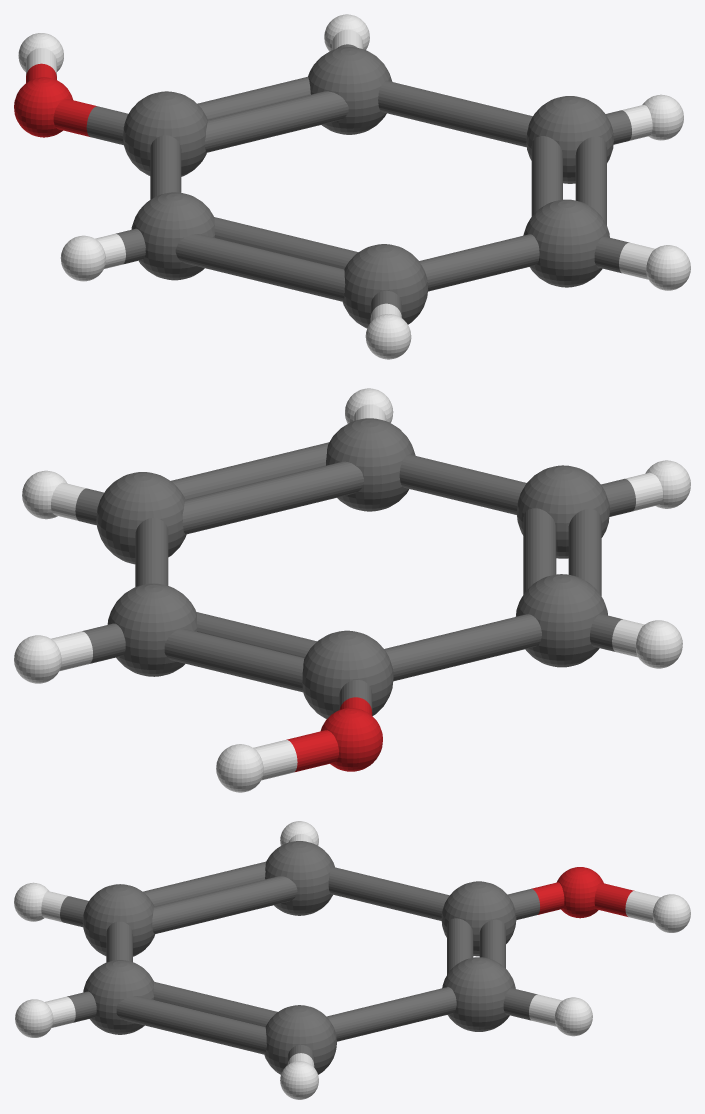
Rendered from FenolA.fbx.
3 renders of one model, top to bottom at view 1: azimuth 30°, elevation 25°; view 2: azimuth 150°, elevation 25°; view 3: azimuth 270°, elevation 25°, orthographic. The views are drawn at different scales.
Visible parts, largest first — view 1: Cylinder.008, Sphere.005, Cylinder.005, Sphere.004, Sphere, Sphere.003, Sphere.001, Cylinder.001, Sphere.002, Cylinder.007, Cylinder.009, Sphere.012 (+16 smaller); view 2: Cylinder.011, Sphere.003, Sphere, Sphere.001, Sphere.002, Sphere.005, Cylinder.006, Cylinder.003, Sphere.004, Cylinder.007, Cylinder.010, Sphere.012 (+16 smaller); view 3: Cylinder.010, Cylinder.009, Sphere.001, Sphere.003, Cylinder.005, Sphere.002, Sphere.004, Cylinder.006, Sphere.005, Sphere, Cylinder.011, Cylinder.008 (+15 smaller).
Part boxes in pixels (x1=…): Cylinder.008: x1=175, y1=234, x2=345, y2=301; Sphere.005: x1=523, y1=199, x2=609, y2=287; Cylinder.005: x1=378, y1=80, x2=532, y2=147; Sphere.004: x1=342, y1=244, x2=427, y2=328; Sphere: x1=123, y1=91, x2=207, y2=176; Sphere.003: x1=131, y1=192, x2=214, y2=280; Sphere.001: x1=308, y1=47, x2=392, y2=134; Cylinder.001: x1=205, y1=91, x2=348, y2=152; Sphere.002: x1=526, y1=96, x2=613, y2=183; Cylinder.007: x1=419, y1=234, x2=539, y2=291; Cylinder.009: x1=214, y1=217, x2=358, y2=269; Sphere.012: x1=14, y1=77, x2=72, y2=137; Cylinder.011: x1=182, y1=461, x2=363, y2=534; Sphere.003: x1=515, y1=574, x2=607, y2=667; Sphere: x1=302, y1=630, x2=393, y2=719; Sphere.001: x1=107, y1=583, x2=196, y2=676; Sphere.002: x1=96, y1=472, x2=186, y2=564; Sphere.005: x1=326, y1=418, x2=415, y2=511; Cylinder.006: x1=384, y1=614, x2=541, y2=681; Cylinder.003: x1=164, y1=629, x2=304, y2=692; Sphere.004: x1=516, y1=465, x2=609, y2=558; Cylinder.007: x1=399, y1=454, x2=526, y2=514; Cylinder.010: x1=171, y1=442, x2=328, y2=499; Sphere.012: x1=320, y1=708, x2=382, y2=771; Cylinder.010: x1=116, y1=996, x2=266, y2=1054; Cylinder.009: x1=152, y1=876, x2=297, y2=933; Sphere.001: x1=442, y1=957, x2=515, y2=1031; Sphere.003: x1=265, y1=841, x2=334, y2=915; Cylinder.005: x1=326, y1=987, x2=456, y2=1041; Sphere.002: x1=264, y1=1005, x2=336, y2=1074; Sphere.004: x1=82, y1=884, x2=154, y2=956; Cylinder.006: x1=328, y1=867, x2=449, y2=920; Sphere.005: x1=83, y1=960, x2=153, y2=1034; Sphere: x1=441, y1=881, x2=516, y2=956; Cylinder.011: x1=153, y1=981, x2=277, y2=1026; Cylinder.008: x1=143, y1=861, x2=265, y2=906.
Bounding box in the file's own units: 677 × 83.67 × 755.
